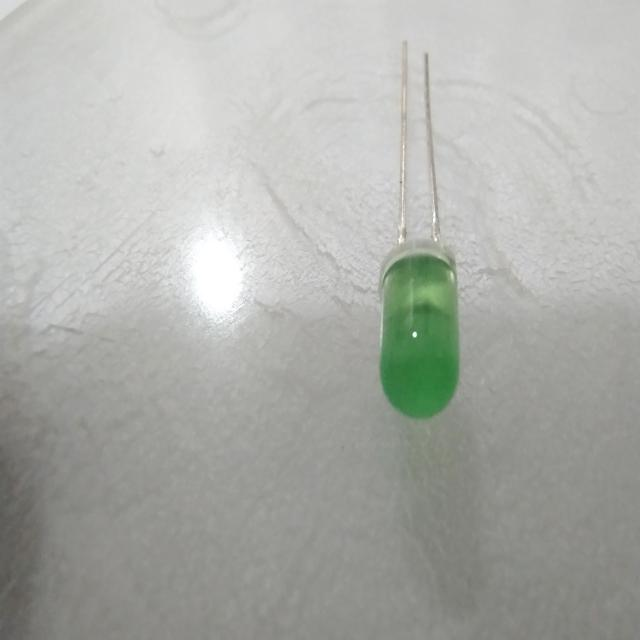green_led: (365, 232, 474, 430)
